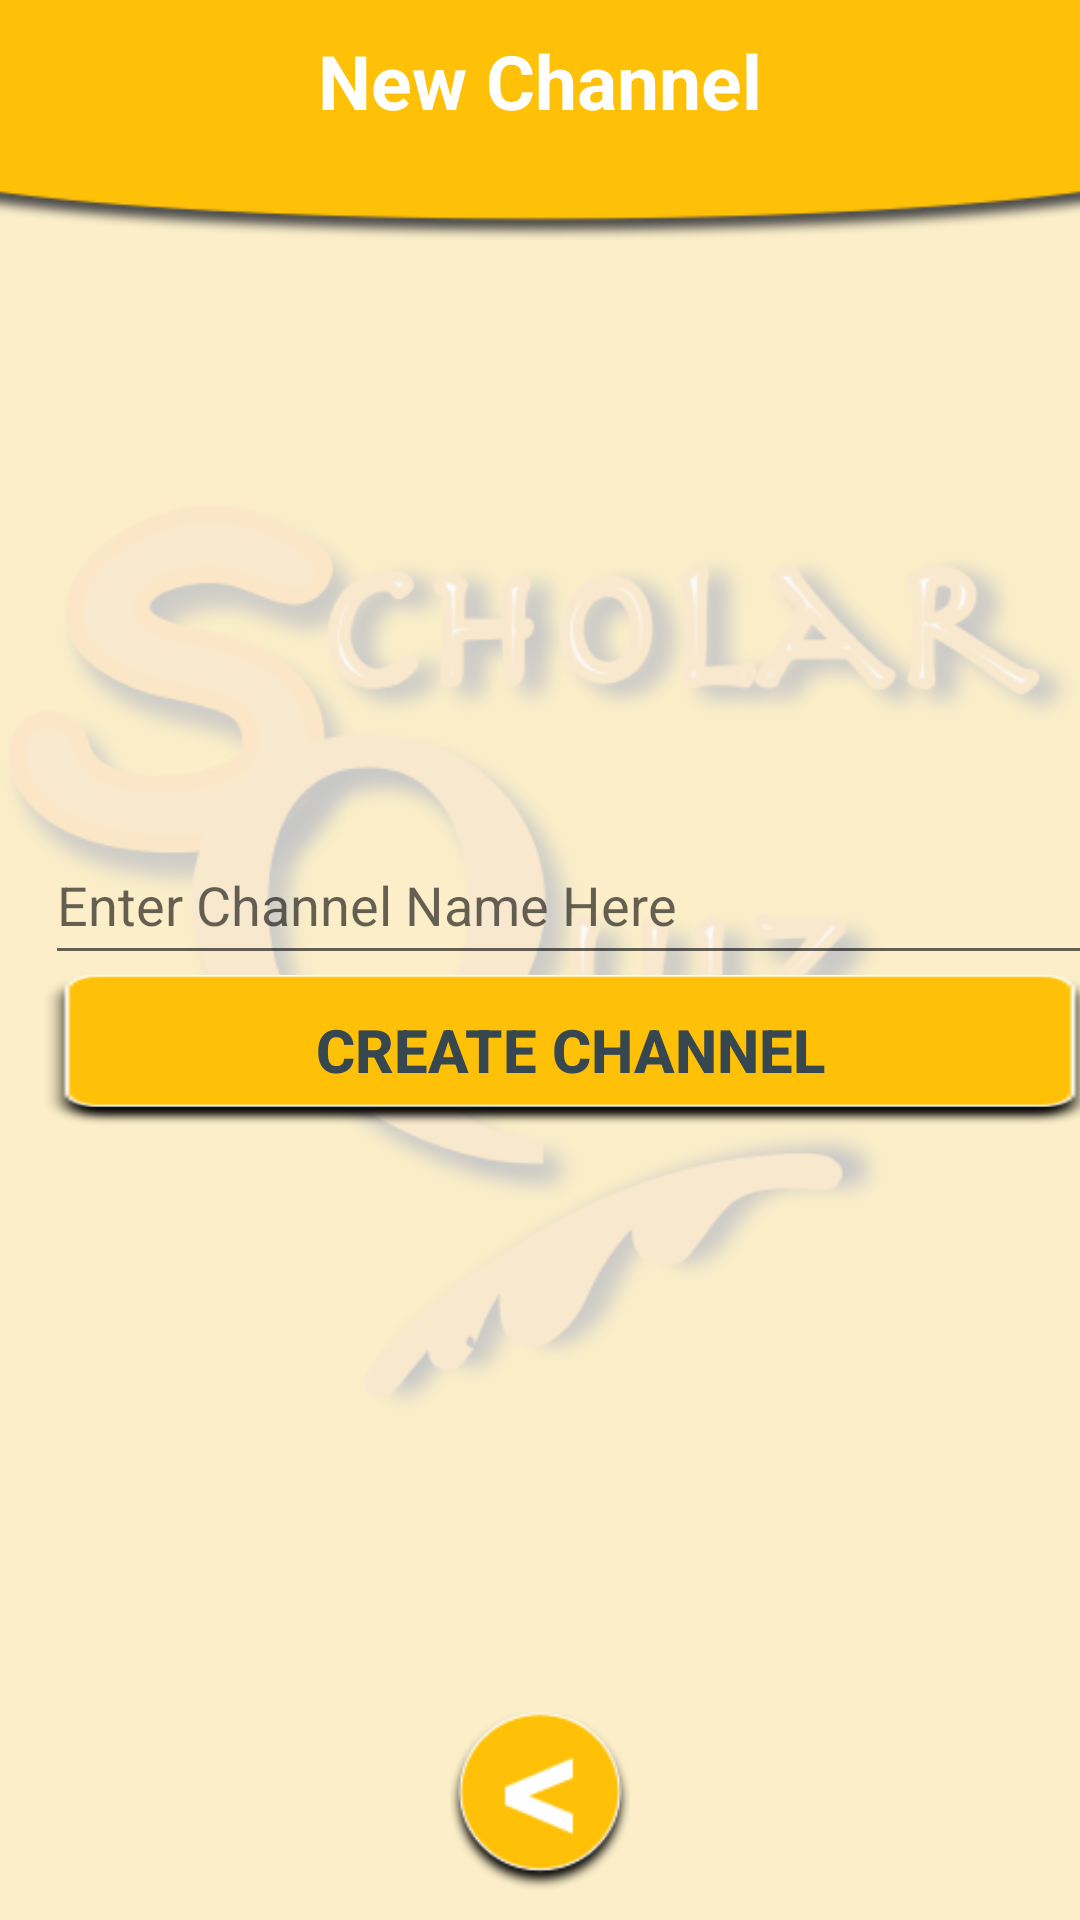

Where icons sit on this 1080px x 1920px app screen, as bbox=(x1, y1, x2, y2):
backbutton: bbox=(453, 1714, 627, 1886)
